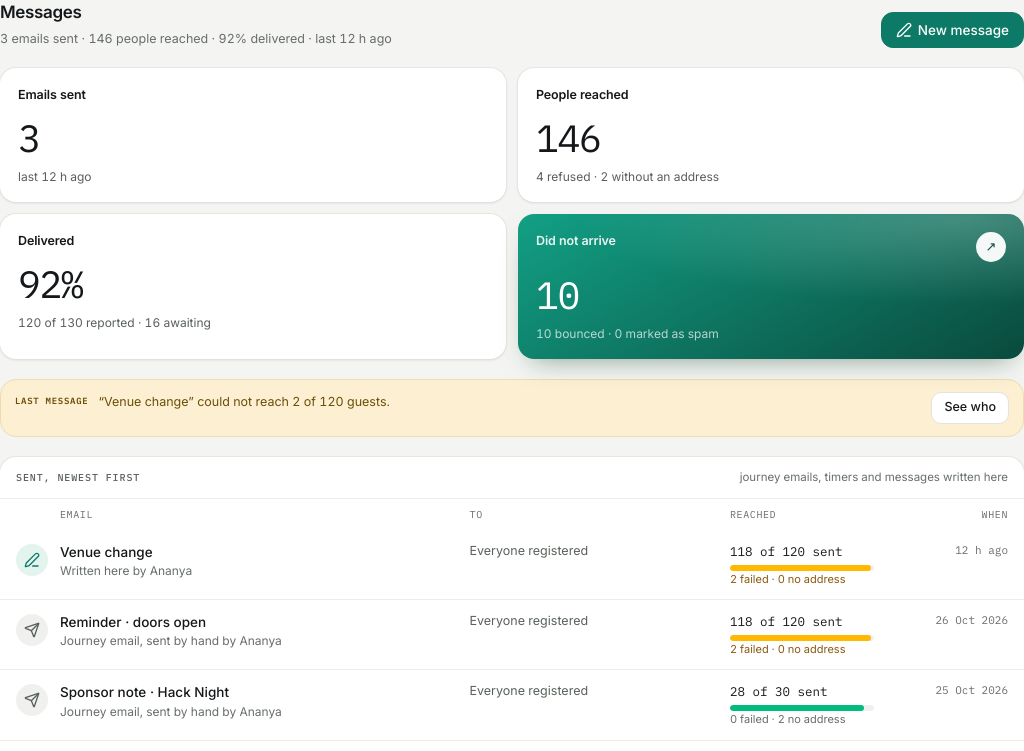
an event's messages › leads with what went out and how it did, and opens a message on who it reached
Check: the text "3 emails sent · 146 people reached · 92% delivered · last" is shown, box [0, 30, 392, 46]
Check: the text "10 bounced · 0 marked as spam" is shown, box [536, 326, 719, 343]
Click the button "See who" at (970, 408), box [931, 392, 1009, 424]
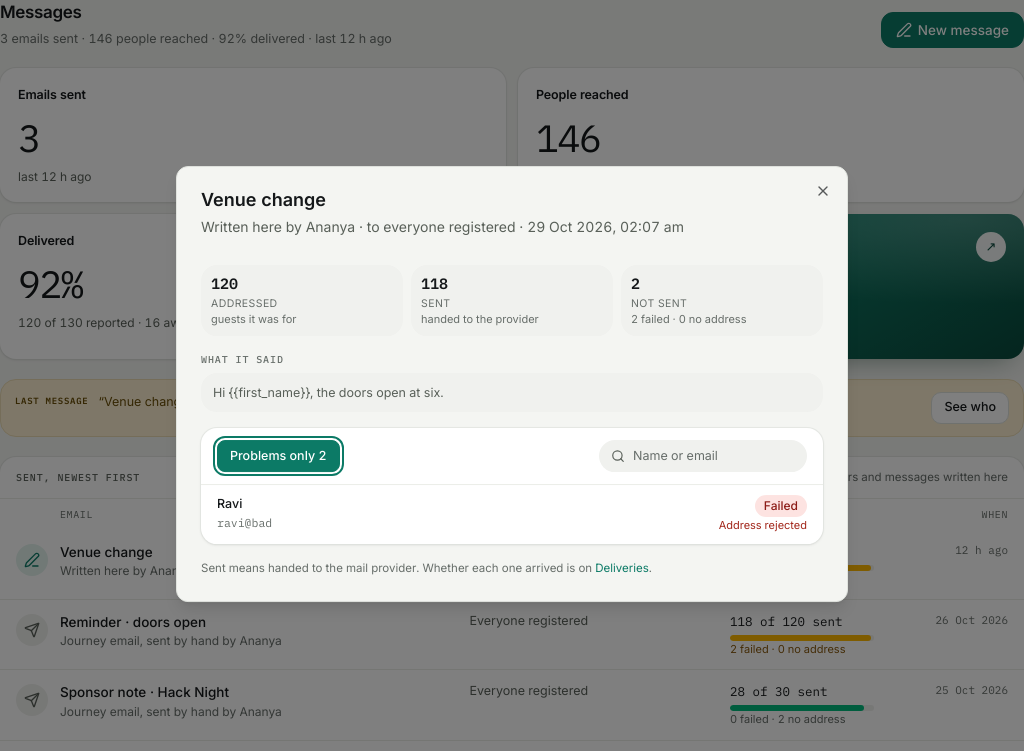
Check: the text "Ravi" is shown, box [217, 496, 242, 511]
Check: the text "Address rejected" is shown, box [719, 518, 807, 532]
